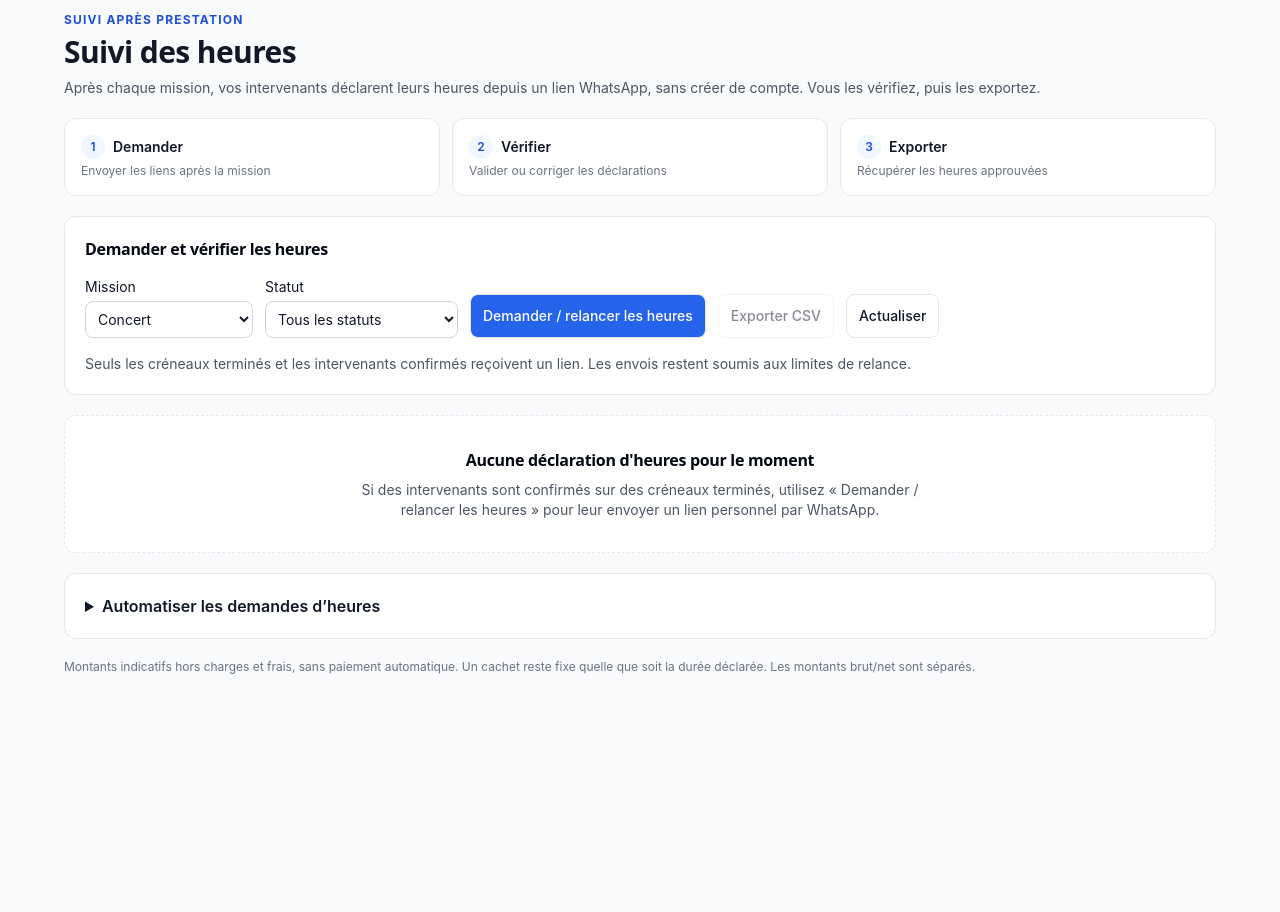
Scenario: organizer requests confirmed workers for selected mission and reports delivery failures
Click the button "Demander / relancer les heures".
click(588, 316)  # box [470,294,706,338]
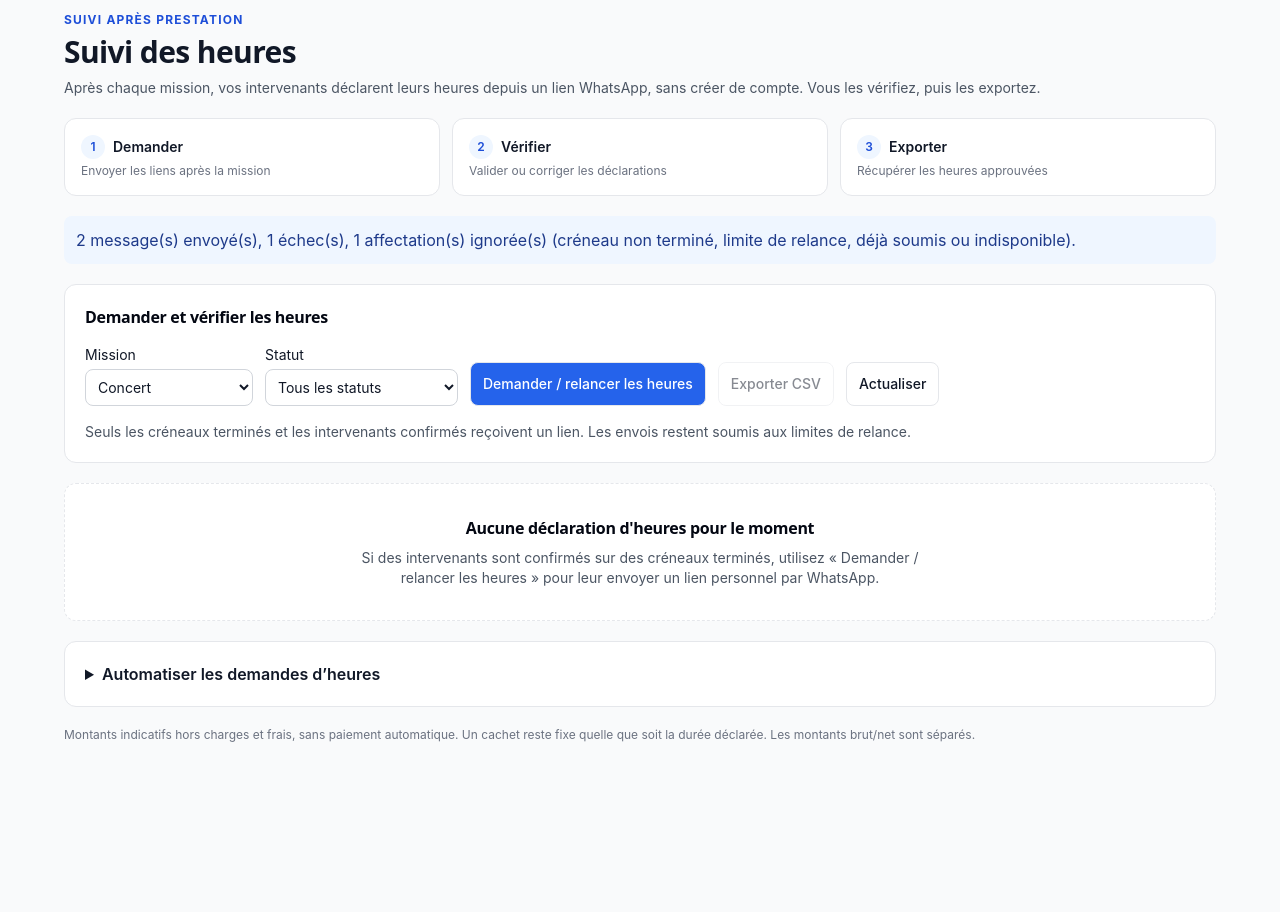
Check: the message shows "1 échec", box [76,230,1076,250]
